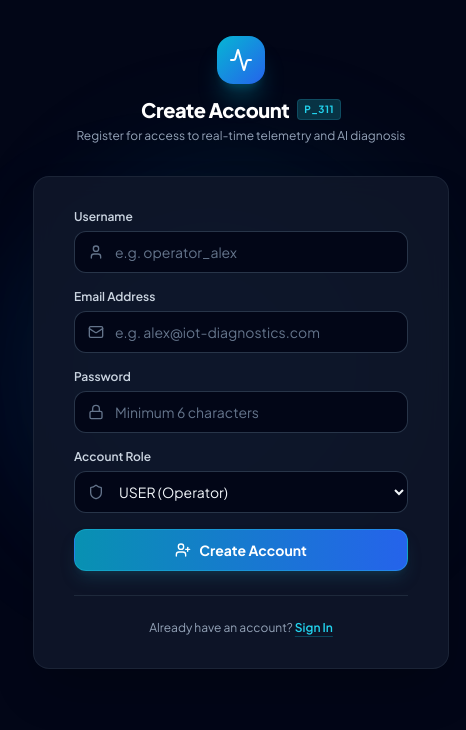
Test: Frontend Authentication Suite (P19) › Register Page › validates password length before submitting
Type "alex" into the field labelled "Username" at (241, 252), box x1=74 y1=230 x2=408 y2=272
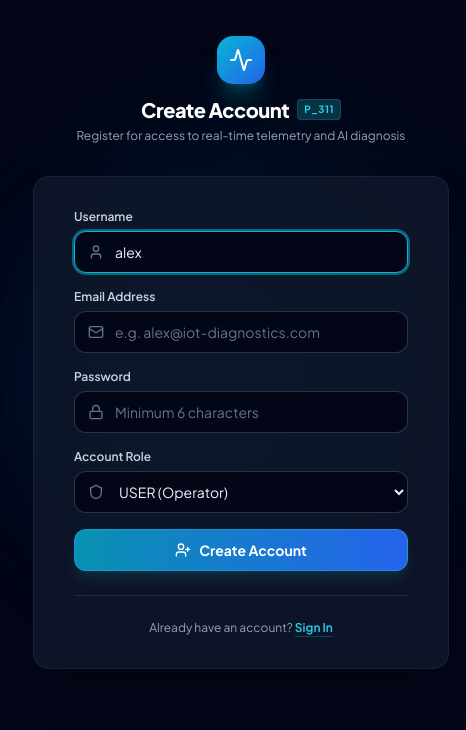
Type "alex@iot.com" into the field labelled "Email Address" at (241, 332), box x1=74 y1=310 x2=408 y2=352
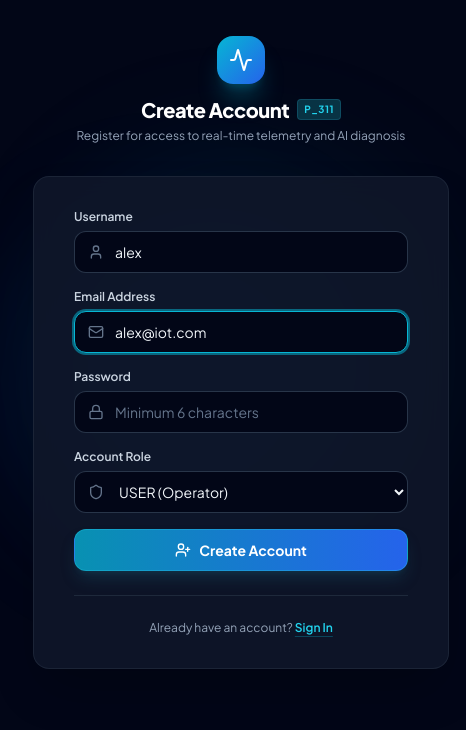
Type "123" into the password field labelled "Password" at (241, 412), box x1=74 y1=390 x2=408 y2=432
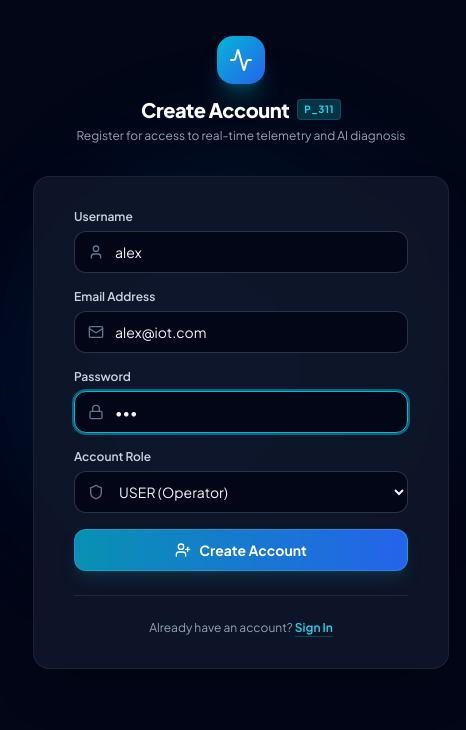
Click the button "Create Account" at (241, 550), box x1=74 y1=528 x2=408 y2=570
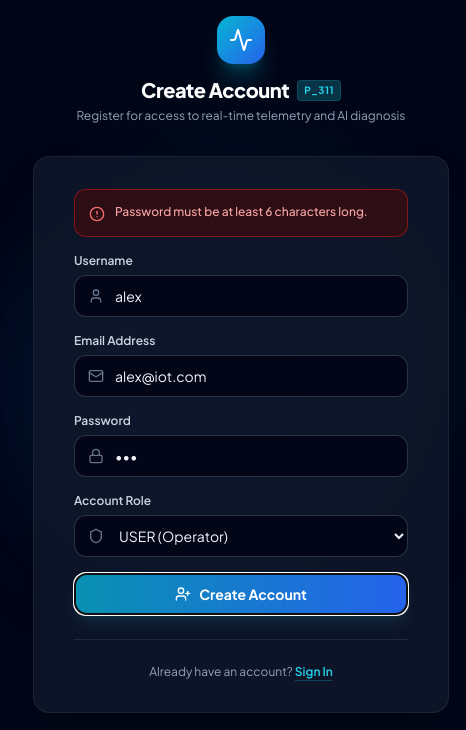
Expected: the text "Password must be at least 6 characters long." is shown, x1=115 y1=204 x2=368 y2=220
